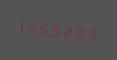five: (28, 17, 38, 38), (39, 18, 49, 39), (50, 19, 60, 40)
nine: (83, 22, 93, 43)
one: (17, 16, 27, 37)
two: (61, 20, 71, 41), (72, 21, 82, 42)
